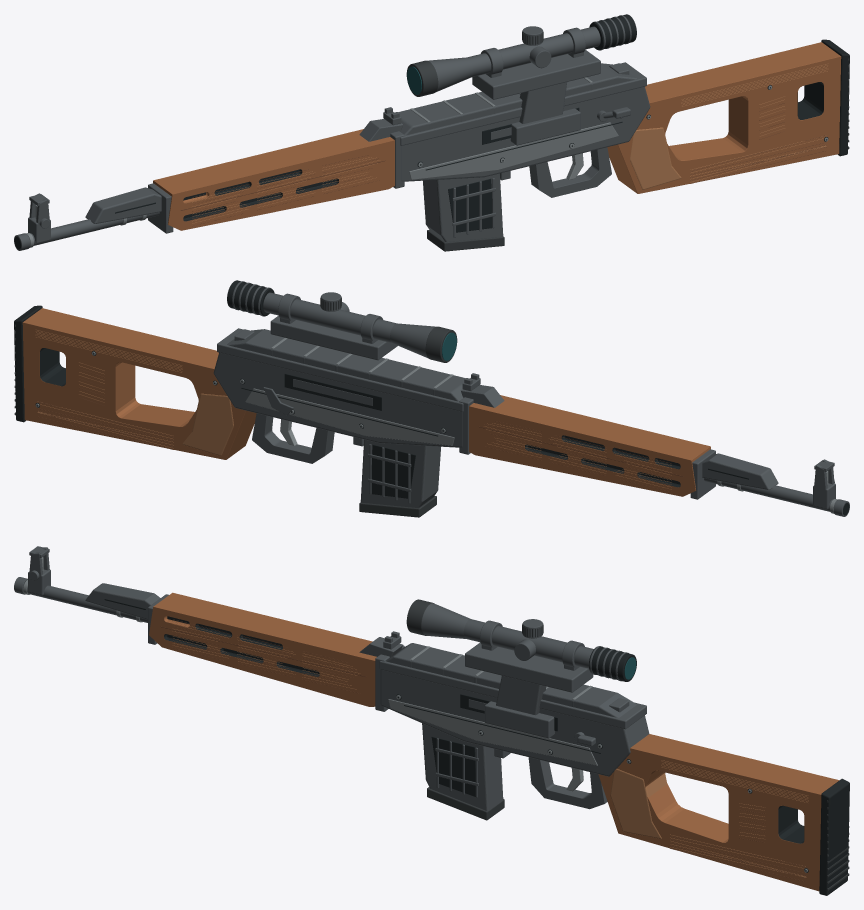
The model's file is svd.glb.
3 views of the same model, one above another, from view 1: azimuth 30°, elevation 25°; view 2: azimuth 150°, elevation 25°; view 3: azimuth 330°, elevation 25° (orthographic).
Visible parts, largest first — view 1: part_stock_surfaces, part_handguard_surfaces, part_optic_surfaces, part_receiver_surfaces, part_magazine_surfaces, part_top_cover_surfaces, part_front_surfaces, part_controls_surfaces; view 2: part_stock_surfaces, part_handguard_surfaces, part_receiver_surfaces, part_optic_surfaces, part_top_cover_surfaces, part_magazine_surfaces, part_front_surfaces, part_controls_surfaces; view 3: part_stock_surfaces, part_handguard_surfaces, part_receiver_surfaces, part_optic_surfaces, part_magazine_surfaces, part_top_cover_surfaces, part_front_surfaces, part_controls_surfaces.
Part boxes in pixels (x1,y1,x2,y2): part_stock_surfaces: (607, 39, 849, 193); part_handguard_surfaces: (148, 129, 404, 233); part_optic_surfaces: (406, 14, 636, 145); part_receiver_surfaces: (400, 62, 650, 181); part_magazine_surfaces: (423, 173, 504, 251); part_top_cover_surfaces: (359, 63, 636, 141); part_front_surfaces: (14, 187, 161, 250); part_controls_surfaces: (500, 107, 630, 197); part_stock_surfaces: (14, 305, 256, 459); part_handguard_surfaces: (459, 395, 715, 499); part_receiver_surfaces: (213, 328, 463, 447); part_optic_surfaces: (227, 280, 457, 362); part_top_cover_surfaces: (227, 329, 504, 407); part_magazine_surfaces: (359, 439, 440, 517); part_front_surfaces: (702, 453, 849, 516); part_controls_surfaces: (252, 387, 363, 463); part_stock_surfaces: (598, 734, 849, 895); part_handguard_surfaces: (148, 592, 404, 711); part_receiver_surfaces: (379, 661, 649, 776); part_optic_surfaces: (406, 599, 636, 738); part_magazine_surfaces: (422, 723, 504, 820); part_top_cover_surfaces: (359, 631, 636, 717); part_front_surfaces: (14, 546, 160, 622); part_controls_surfaces: (494, 732, 607, 809).
Size of the model in its own units: 380 by 88.44 by 25.2.
